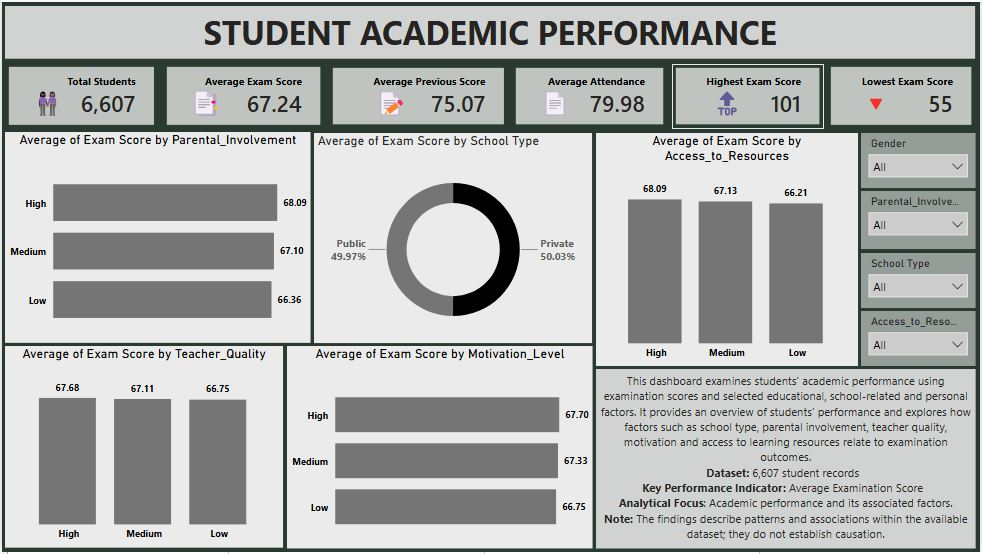

The page's visual inventory and layout, read from the dashboard file:
{"tool":"powerbi","page":{"name":"Academic Performance Overview","canvas":[1280,720],"ordinal":0},"visuals":[{"type":"cardVisual","fields":{"Data":["Student's Performance Measure.Total Students"]},"box":[4.3,79.2,200.2,86.4],"z":0},{"type":"cardVisual","fields":{"Data":["Student's Performance Measure.Average Exam Score"]},"box":[210.2,79.2,211.7,86.4],"z":1000},{"type":"cardVisual","fields":{"Data":["Student's Performance Measure.Average Previous Score"]},"box":[427.7,80.6,234.7,85],"z":2000},{"type":"cardVisual","fields":{"Data":["Student's Performance Measure.Average Attendance"]},"box":[668.2,80.6,203,85],"z":3000},{"type":"cardVisual","fields":{"Data":["Student's Performance Measure.Highest Exam Score"]},"box":[877,80.6,198.7,85],"z":4000},{"type":"cardVisual","fields":{"Data":["Student's Performance Measure.Lowest Exam Score"]},"box":[1080,79.2,194.4,86.4],"z":5000},{"type":"textbox","box":[4.3,5.8,1270.1,69.1],"z":6000},{"type":"clusteredBarChart","fields":{"Category":["Student Performance Factors.Parental_Involvement"],"Y":["Avg(Student Performance Factors.Exam Score)"]},"box":[4.3,169.9,400.3,276.5],"z":7000},{"type":"clusteredColumnChart","fields":{"Y":["Avg(Student Performance Factors.Exam Score)"],"Category":["Student Performance Factors.Teacher_Quality"]},"box":[4.3,450.7,364.3,263.5],"z":8000},{"type":"clusteredBarChart","fields":{"Category":["Student Performance Factors.Motivation_Level"],"Y":["Avg(Student Performance Factors.Exam Score)"]},"box":[373,450.7,400.3,265],"z":9000},{"type":"clusteredColumnChart","fields":{"Category":["Student Performance Factors.Access_to_Resources"],"Y":["Avg(Student Performance Factors.Exam Score)"]},"box":[777.6,171.4,342.7,305.3],"z":10000},{"type":"slicer","fields":{"Values":["Student Performance Factors.Gender"]},"box":[1124.6,171.4,149.8,72],"z":11000},{"type":"slicer","fields":{"Values":["Student Performance Factors.School_Type"]},"box":[1124.6,328.3,149.8,72],"z":12000},{"type":"slicer","fields":{"Values":["Student Performance Factors.Parental_Involvement"]},"box":[1124.6,247.7,149.8,76.3],"z":13000},{"type":"slicer","fields":{"Values":["Student Performance Factors.Access_to_Resources"]},"box":[1124.6,404.6,149.8,72],"z":14000},{"type":"textbox","box":[777.6,481,496.8,234.7],"z":15000},{"type":"donutChart","fields":{"Category":["Student Performance Factors.School Type"],"Y":["Avg(Student Performance Factors.Exam Score)"]},"box":[409,171.4,364.3,275],"z":16000},{"type":"textbox","box":[1114.6,103.7,60.5,57.6],"z":17000},{"type":"textbox","box":[918.7,103.7,60.5,57.6],"z":18000},{"type":"textbox","box":[694.1,103.7,60.5,57.6],"z":19000},{"type":"textbox","box":[481,103.7,54.7,57.6],"z":20000},{"type":"textbox","box":[240.5,103.7,54.7,57.6],"z":21000},{"type":"textbox","box":[33.1,103.7,54.7,57.6],"z":22000}]}

Visuals, with their boxes in screenshot pixels (x1, y1, x2, y2), scaled from the page's 1280x720 canvas onto the 982x554 screenshot:
cardVisual - Student's Performance Measure.Total Students: (x1=3, y1=61, x2=157, y2=127)
cardVisual - Student's Performance Measure.Average Exam Score: (x1=161, y1=61, x2=324, y2=127)
cardVisual - Student's Performance Measure.Average Previous Score: (x1=328, y1=62, x2=508, y2=127)
cardVisual - Student's Performance Measure.Average Attendance: (x1=513, y1=62, x2=668, y2=127)
cardVisual - Student's Performance Measure.Highest Exam Score: (x1=673, y1=62, x2=825, y2=127)
cardVisual - Student's Performance Measure.Lowest Exam Score: (x1=829, y1=61, x2=978, y2=127)
textbox: (x1=3, y1=4, x2=978, y2=58)
clusteredBarChart - Student Performance Factors.Parental_Involvement x Avg(Student Performance Factors.Exam Score): (x1=3, y1=131, x2=310, y2=343)
clusteredColumnChart - Avg(Student Performance Factors.Exam Score) x Student Performance Factors.Teacher_Quality: (x1=3, y1=347, x2=283, y2=550)
clusteredBarChart - Student Performance Factors.Motivation_Level x Avg(Student Performance Factors.Exam Score): (x1=286, y1=347, x2=593, y2=551)
clusteredColumnChart - Student Performance Factors.Access_to_Resources x Avg(Student Performance Factors.Exam Score): (x1=597, y1=132, x2=859, y2=367)
slicer - Student Performance Factors.Gender: (x1=863, y1=132, x2=978, y2=187)
slicer - Student Performance Factors.School_Type: (x1=863, y1=253, x2=978, y2=308)
slicer - Student Performance Factors.Parental_Involvement: (x1=863, y1=191, x2=978, y2=249)
slicer - Student Performance Factors.Access_to_Resources: (x1=863, y1=311, x2=978, y2=367)
textbox: (x1=597, y1=370, x2=978, y2=551)
donutChart - Student Performance Factors.School Type x Avg(Student Performance Factors.Exam Score): (x1=314, y1=132, x2=593, y2=343)
textbox: (x1=855, y1=80, x2=902, y2=124)
textbox: (x1=705, y1=80, x2=751, y2=124)
textbox: (x1=533, y1=80, x2=579, y2=124)
textbox: (x1=369, y1=80, x2=411, y2=124)
textbox: (x1=185, y1=80, x2=226, y2=124)
textbox: (x1=25, y1=80, x2=67, y2=124)
